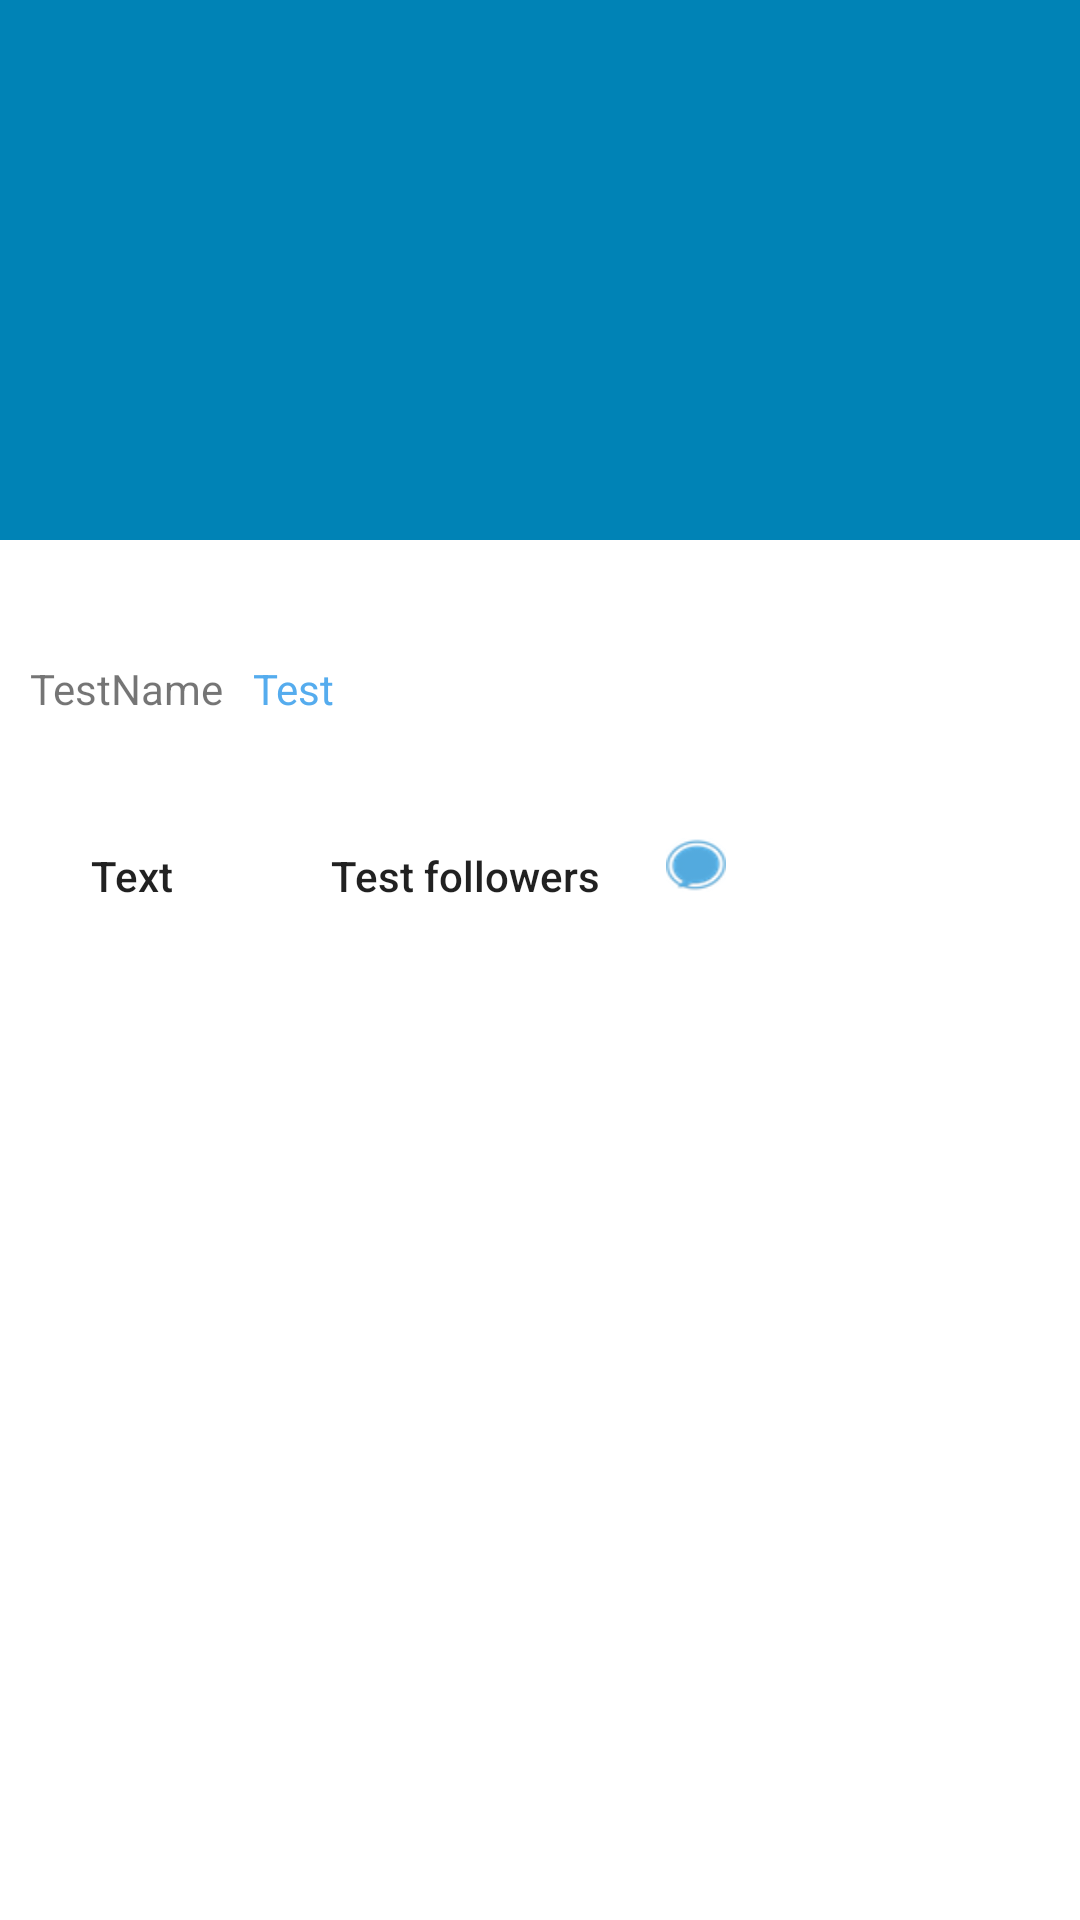

Screen size 1080x1920. Icon name, then its box in pixels as (x1, y1, x2, y2):
direct message: (666, 839, 726, 890)
